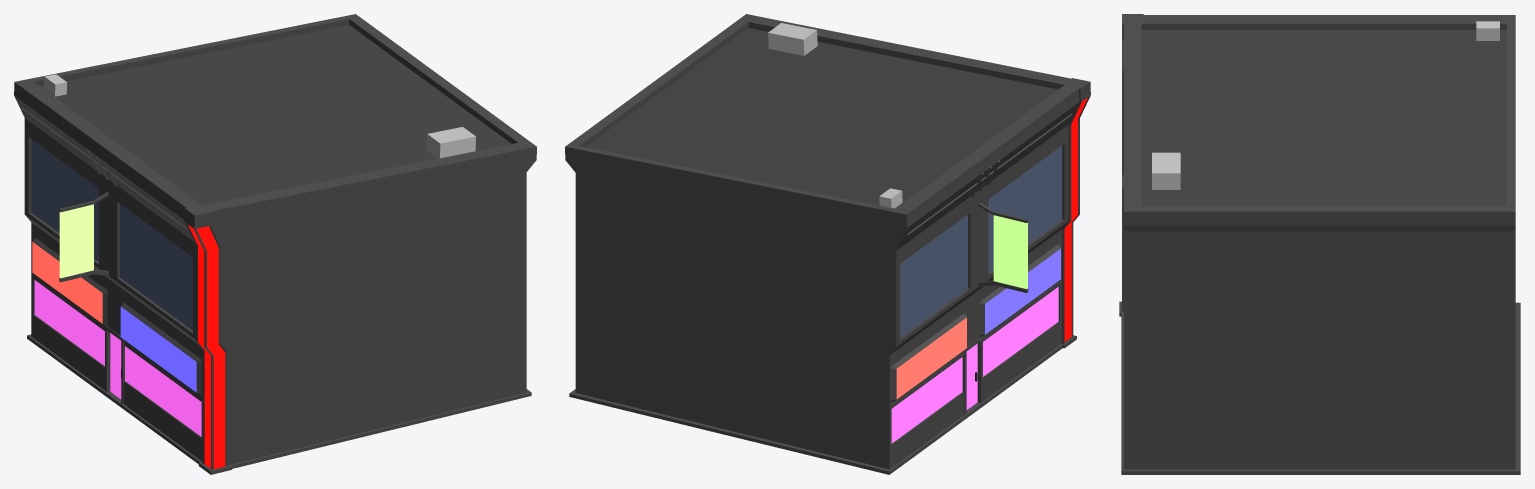
File: TestCP1.fbx
The picture shows the model from 3 angles, left to right: view 1: azimuth 30°, elevation 25°; view 2: azimuth 150°, elevation 25°; view 3: azimuth 270°, elevation 25°; orthographic projection. The views are drawn at different scales.
Visible parts, largest first — view 1: Cube; view 2: Cube; view 3: Cube.
Boxes of the visible parts, bbox=[...] form: Cube: bbox=[14, 14, 536, 474]; Cube: bbox=[565, 14, 1090, 474]; Cube: bbox=[1119, 14, 1520, 474].
Bounding box in the file's own units: 1208 × 813 × 1024.
